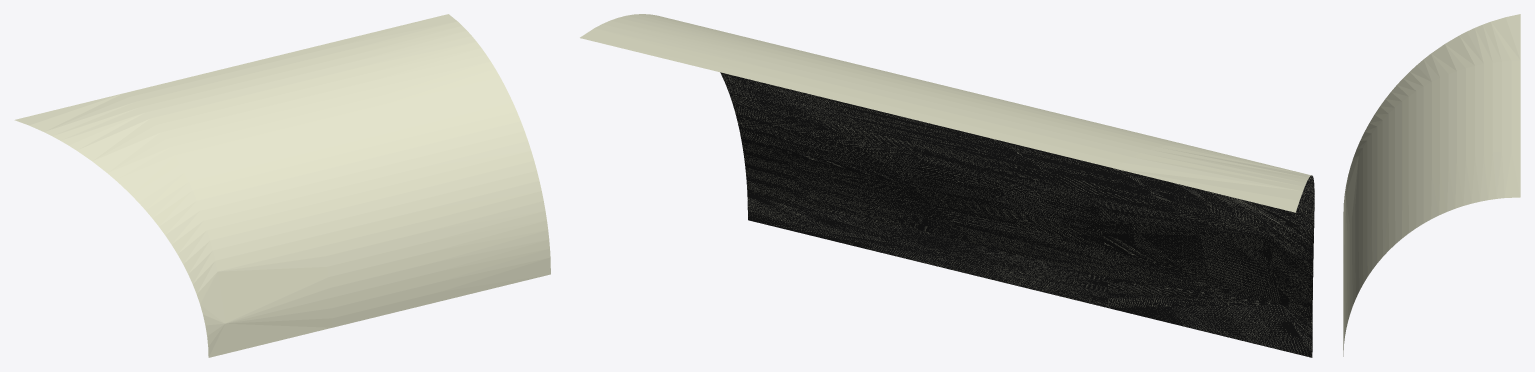
File: original-16.obj
The picture shows the model from 3 angles, left to right: view 1: azimuth 30°, elevation 25°; view 2: azimuth 150°, elevation 25°; view 3: azimuth 270°, elevation 25°; orthographic projection. The views are drawn at different scales.
Visible parts, largest first — view 1: Obj_000016_1/Obj_000016/mesh16/mesh16-geometry#mesh16-geometry; view 2: Obj_000016_1/Obj_000016/mesh16/mesh16-geometry#mesh16-geometry; view 3: Obj_000016_1/Obj_000016/mesh16/mesh16-geometry#mesh16-geometry.
Boxes of the visible parts, left/top/right/bottom form: Obj_000016_1/Obj_000016/mesh16/mesh16-geometry#mesh16-geometry: left=14, top=14, right=550, bottom=357; Obj_000016_1/Obj_000016/mesh16/mesh16-geometry#mesh16-geometry: left=580, top=14, right=1314, bottom=357; Obj_000016_1/Obj_000016/mesh16/mesh16-geometry#mesh16-geometry: left=1343, top=14, right=1520, bottom=356.
Bounding box in the file's own units: 0.1297 × 0.0529 × 0.0529.
